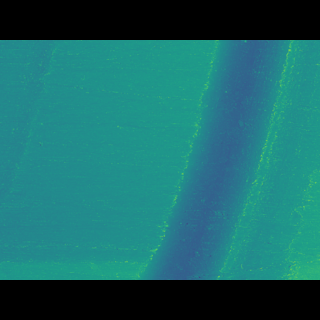Loch: (135, 70, 319, 250)
